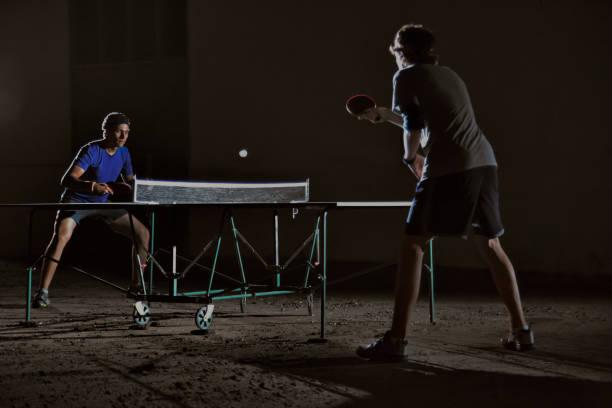ball_pingpong: (239, 149, 247, 157)
